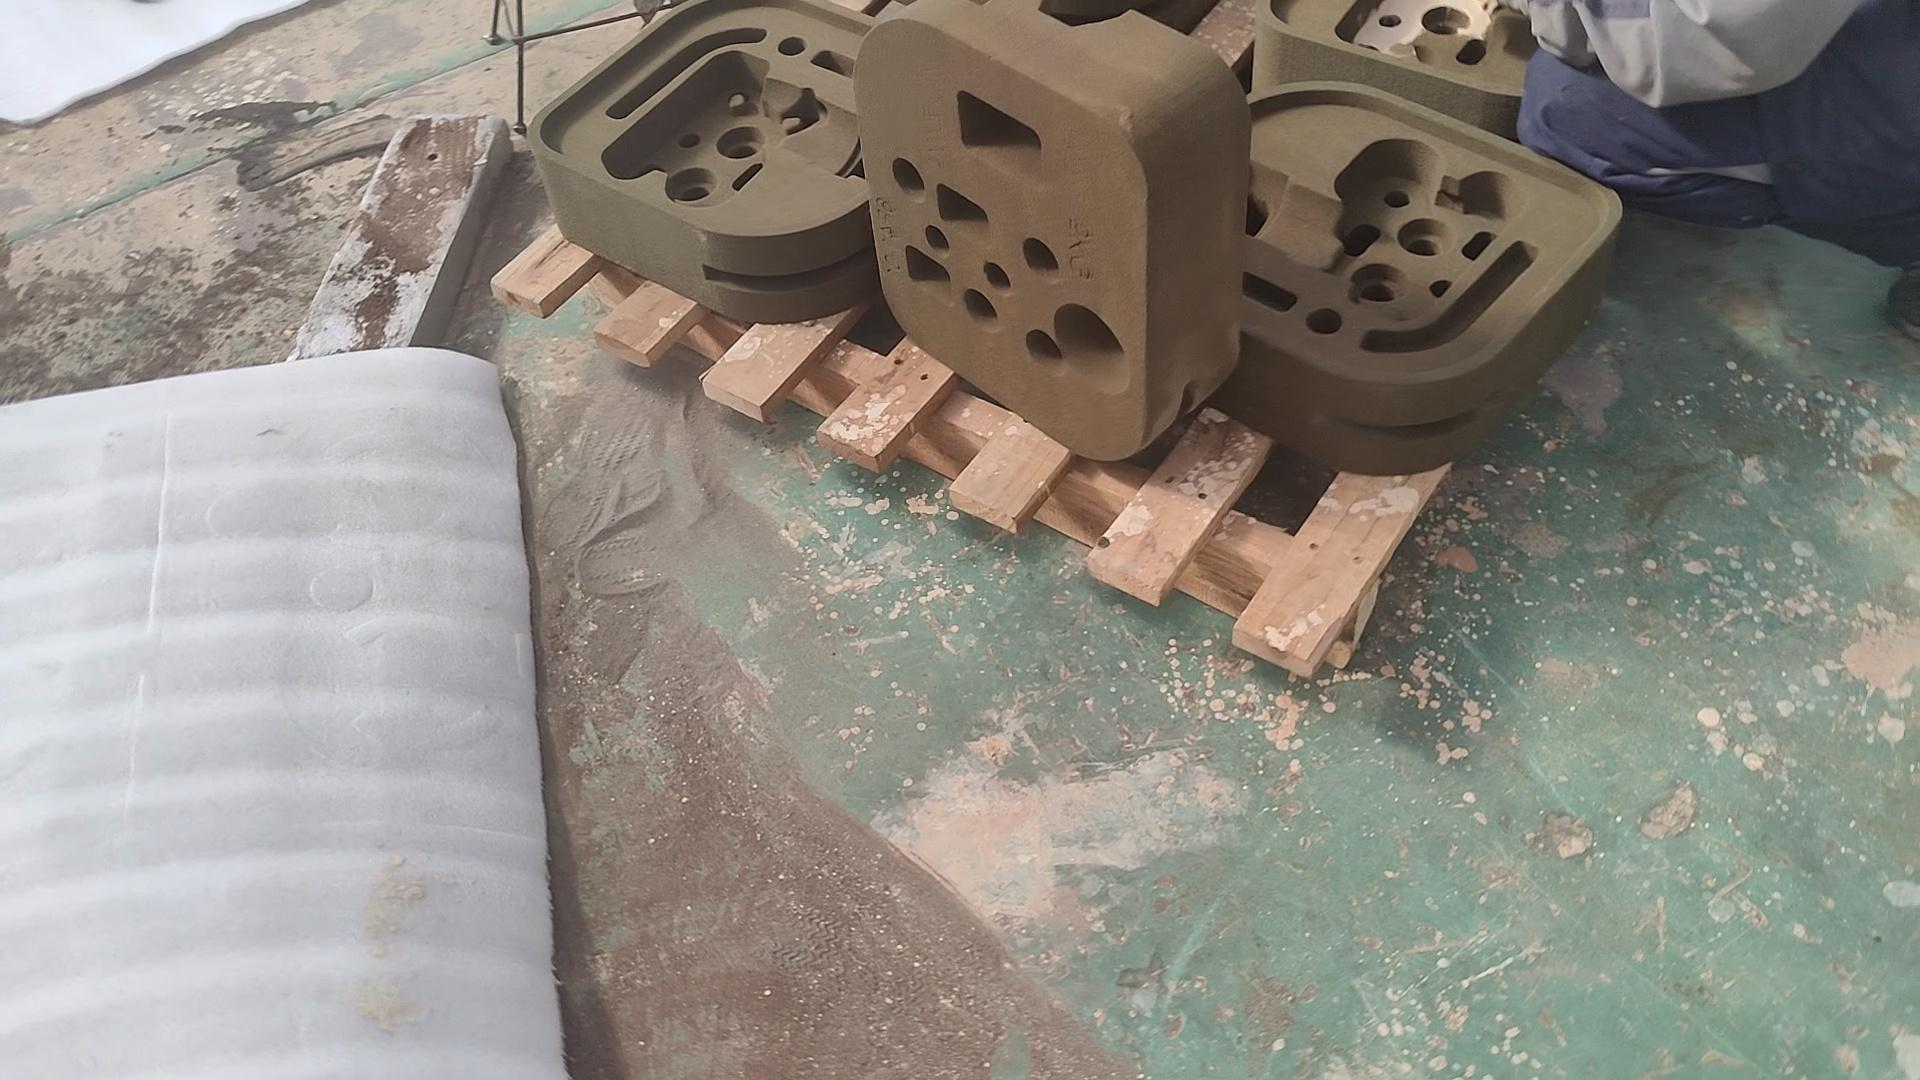pouring hole: (1054, 302, 1131, 393)
